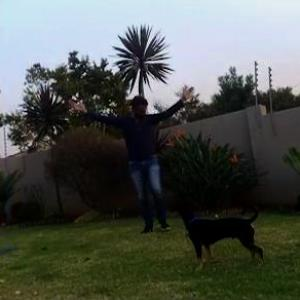takeoff: (61, 79, 192, 230)
